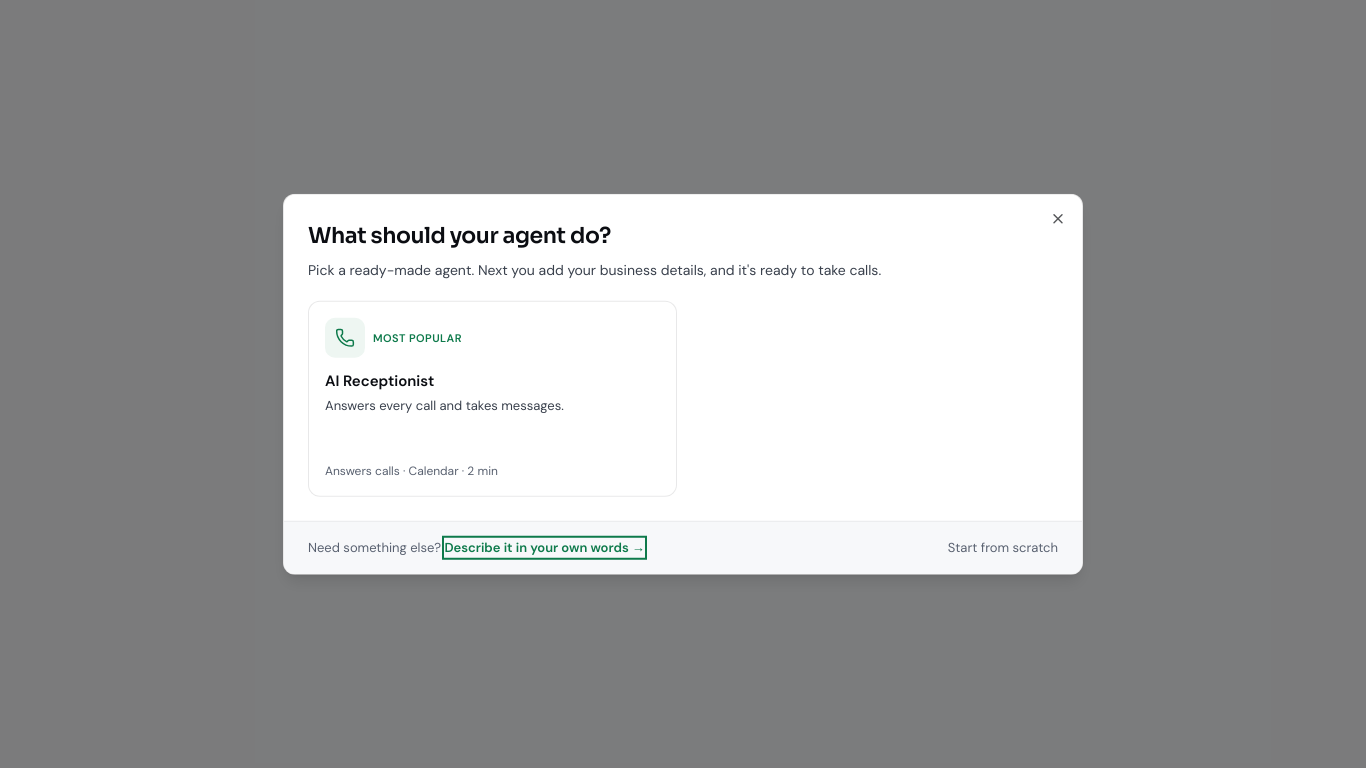
Scenario: attaches the workspace’s Google Calendar when it is connected
Click the button "AI Receptionist" at [492, 399], box [308,301,677,497]
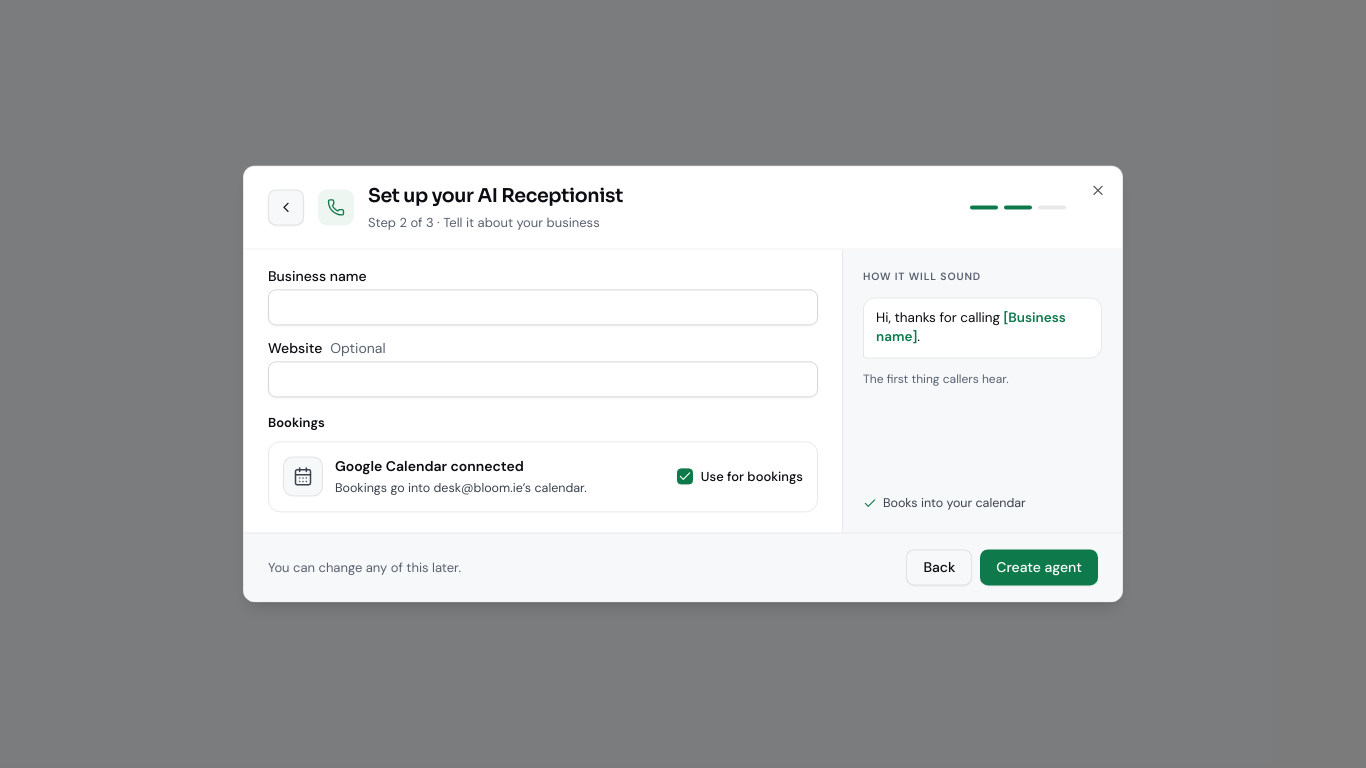
Now the text "Google Calendar connected" is shown, box [335,457,524,475]
Now the text "Bookings go into desk@bloom.ie’s calendar." is shown, box [335,480,587,496]
Type "Bloom Dental" into the field labelled "Business name" at [543, 307], box [268,289,818,325]
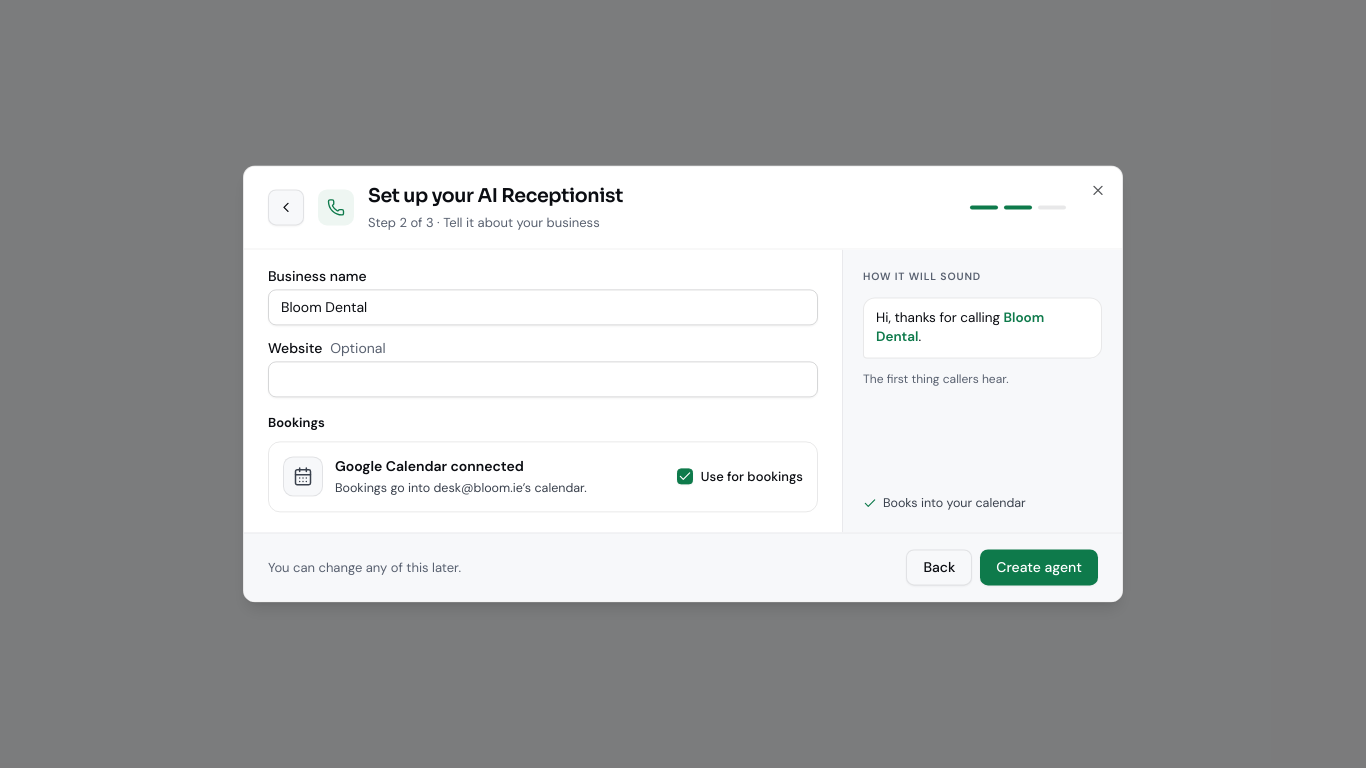
Click the button "Create agent" at [1039, 568], box [980,550,1098,586]
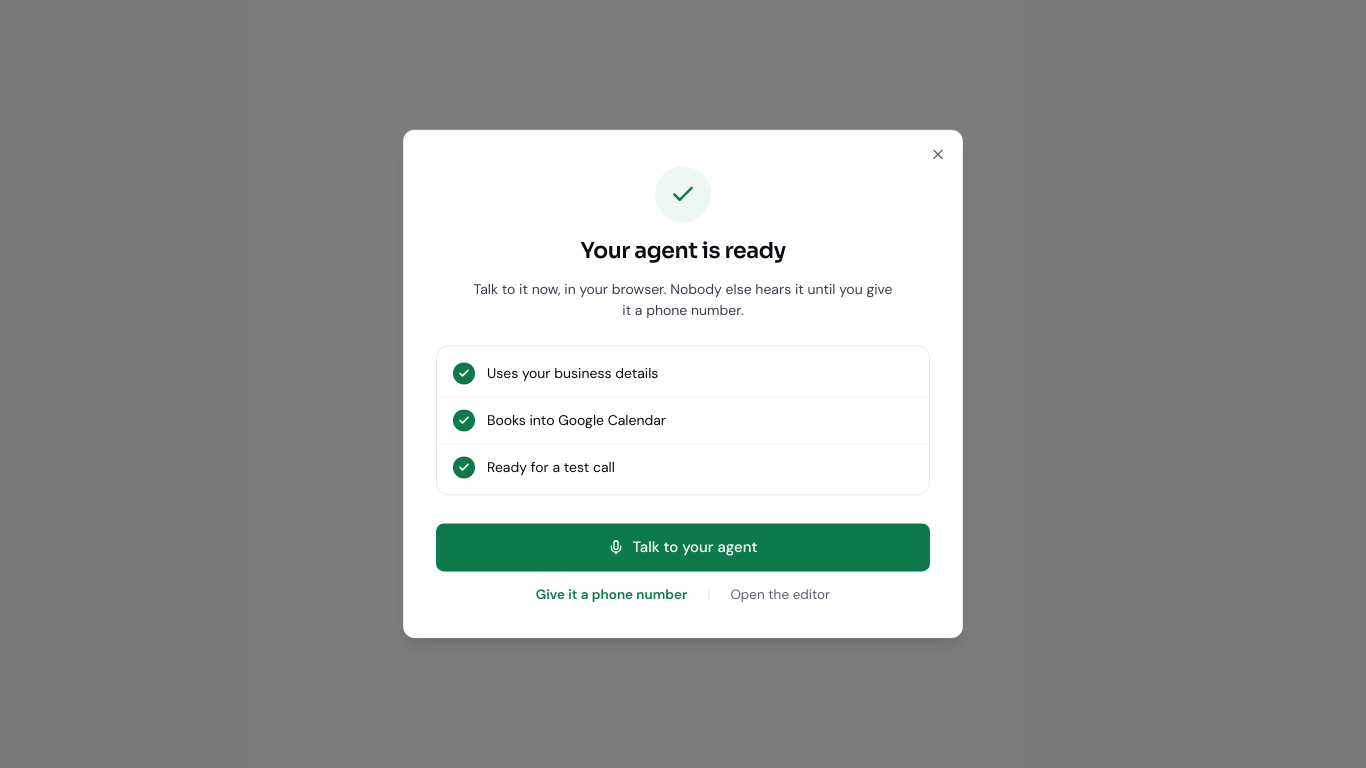
Now the text "Books into Google Calendar" is shown, box [487,411,666,429]
